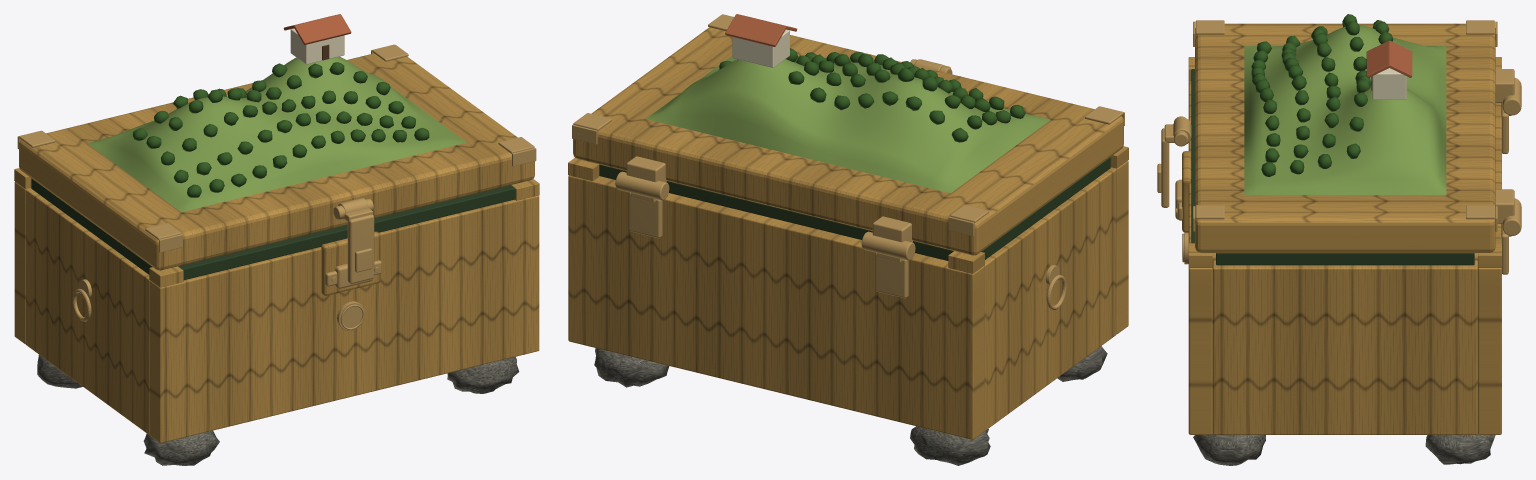
The model's file is colombia.glb.
The picture shows the model from 3 angles, left to right: view 1: azimuth 30°, elevation 25°; view 2: azimuth 150°, elevation 25°; view 3: azimuth 270°, elevation 25°; orthographic projection. The views are drawn at different scales.
Parts seen in each view (by area): view 1: Guadua / long panel, Lid / polished slab, Cordillera / planted hills, Guadua / side panel, Mineral seam / long, Guadua / long panel.001, Granite foot, Granite foot.002, Latch / lifting hasp, Guadua / clasp seat, Mineral seam / side, Farmhouse / roof (+4 smaller); view 2: Guadua / long panel.001, Lid / polished slab, Cordillera / planted hills, Guadua / side panel, Mineral seam / long.001, Guadua / long panel, Granite foot.001, Granite foot.003, Mineral seam / side, Farmhouse / plaster, Farmhouse / roof.001, Hinge / fixed mount (+8 smaller); view 3: Guadua / side panel.001, Lid / polished slab, Cordillera / planted hills, Guadua / long panel.001, Guadua / long panel, Mineral seam / side.001, Granite foot.002, Granite foot.003, Farmhouse / plaster, Farmhouse / roof, Farmhouse / roof.001, Guadua / clasp seat (+12 smaller).
Part boxes in pixels (bbox=[...]): Guadua / long panel: bbox=[149, 195, 539, 443]; Lid / polished slab: bbox=[19, 53, 534, 270]; Cordillera / planted hills: bbox=[87, 56, 466, 212]; Guadua / side panel: bbox=[25, 188, 149, 434]; Mineral seam / long: bbox=[178, 185, 515, 279]; Guadua / long panel.001: bbox=[14, 182, 30, 344]; Granite foot: bbox=[143, 430, 219, 465]; Granite foot.002: bbox=[447, 357, 519, 393]; Latch / lifting hasp: bbox=[347, 214, 374, 283]; Guadua / clasp seat: bbox=[321, 231, 380, 295]; Mineral seam / side: bbox=[31, 178, 152, 274]; Farmhouse / roof: bbox=[294, 14, 351, 44]; Guadua / long panel.001: bbox=[568, 175, 984, 439]; Lid / polished slab: bbox=[573, 27, 1123, 255]; Cordillera / planted hills: bbox=[646, 56, 1050, 193]; Guadua / side panel: bbox=[984, 168, 1116, 430]; Mineral seam / long.001: bbox=[599, 164, 953, 260]; Guadua / long panel: bbox=[1110, 161, 1128, 333]; Granite foot.001: bbox=[910, 426, 990, 465]; Granite foot.003: bbox=[594, 348, 669, 387]; Mineral seam / side: bbox=[981, 157, 1110, 259]; Farmhouse / plaster: bbox=[732, 29, 789, 67]; Farmhouse / roof.001: bbox=[725, 14, 786, 46]; Hinge / fixed mount: bbox=[875, 253, 908, 298]; Guadua / side panel.001: bbox=[1212, 260, 1477, 434]; Lid / polished slab: bbox=[1195, 23, 1495, 252]; Cordillera / planted hills: bbox=[1244, 25, 1446, 194]; Guadua / long panel.001: bbox=[1478, 103, 1501, 434]; Guadua / long panel: bbox=[1188, 81, 1212, 434]; Mineral seam / side.001: bbox=[1216, 253, 1474, 265]; Granite foot.002: bbox=[1193, 434, 1265, 465]; Granite foot.003: bbox=[1425, 434, 1495, 464]; Farmhouse / plaster: bbox=[1372, 68, 1406, 99]; Farmhouse / roof: bbox=[1366, 41, 1389, 77]; Farmhouse / roof.001: bbox=[1389, 41, 1412, 77]; Guadua / clasp seat: bbox=[1182, 151, 1191, 232].
Bounding box in the file's own units: 3.79 × 3.16 × 2.88.
9 materials, 2 textured.
